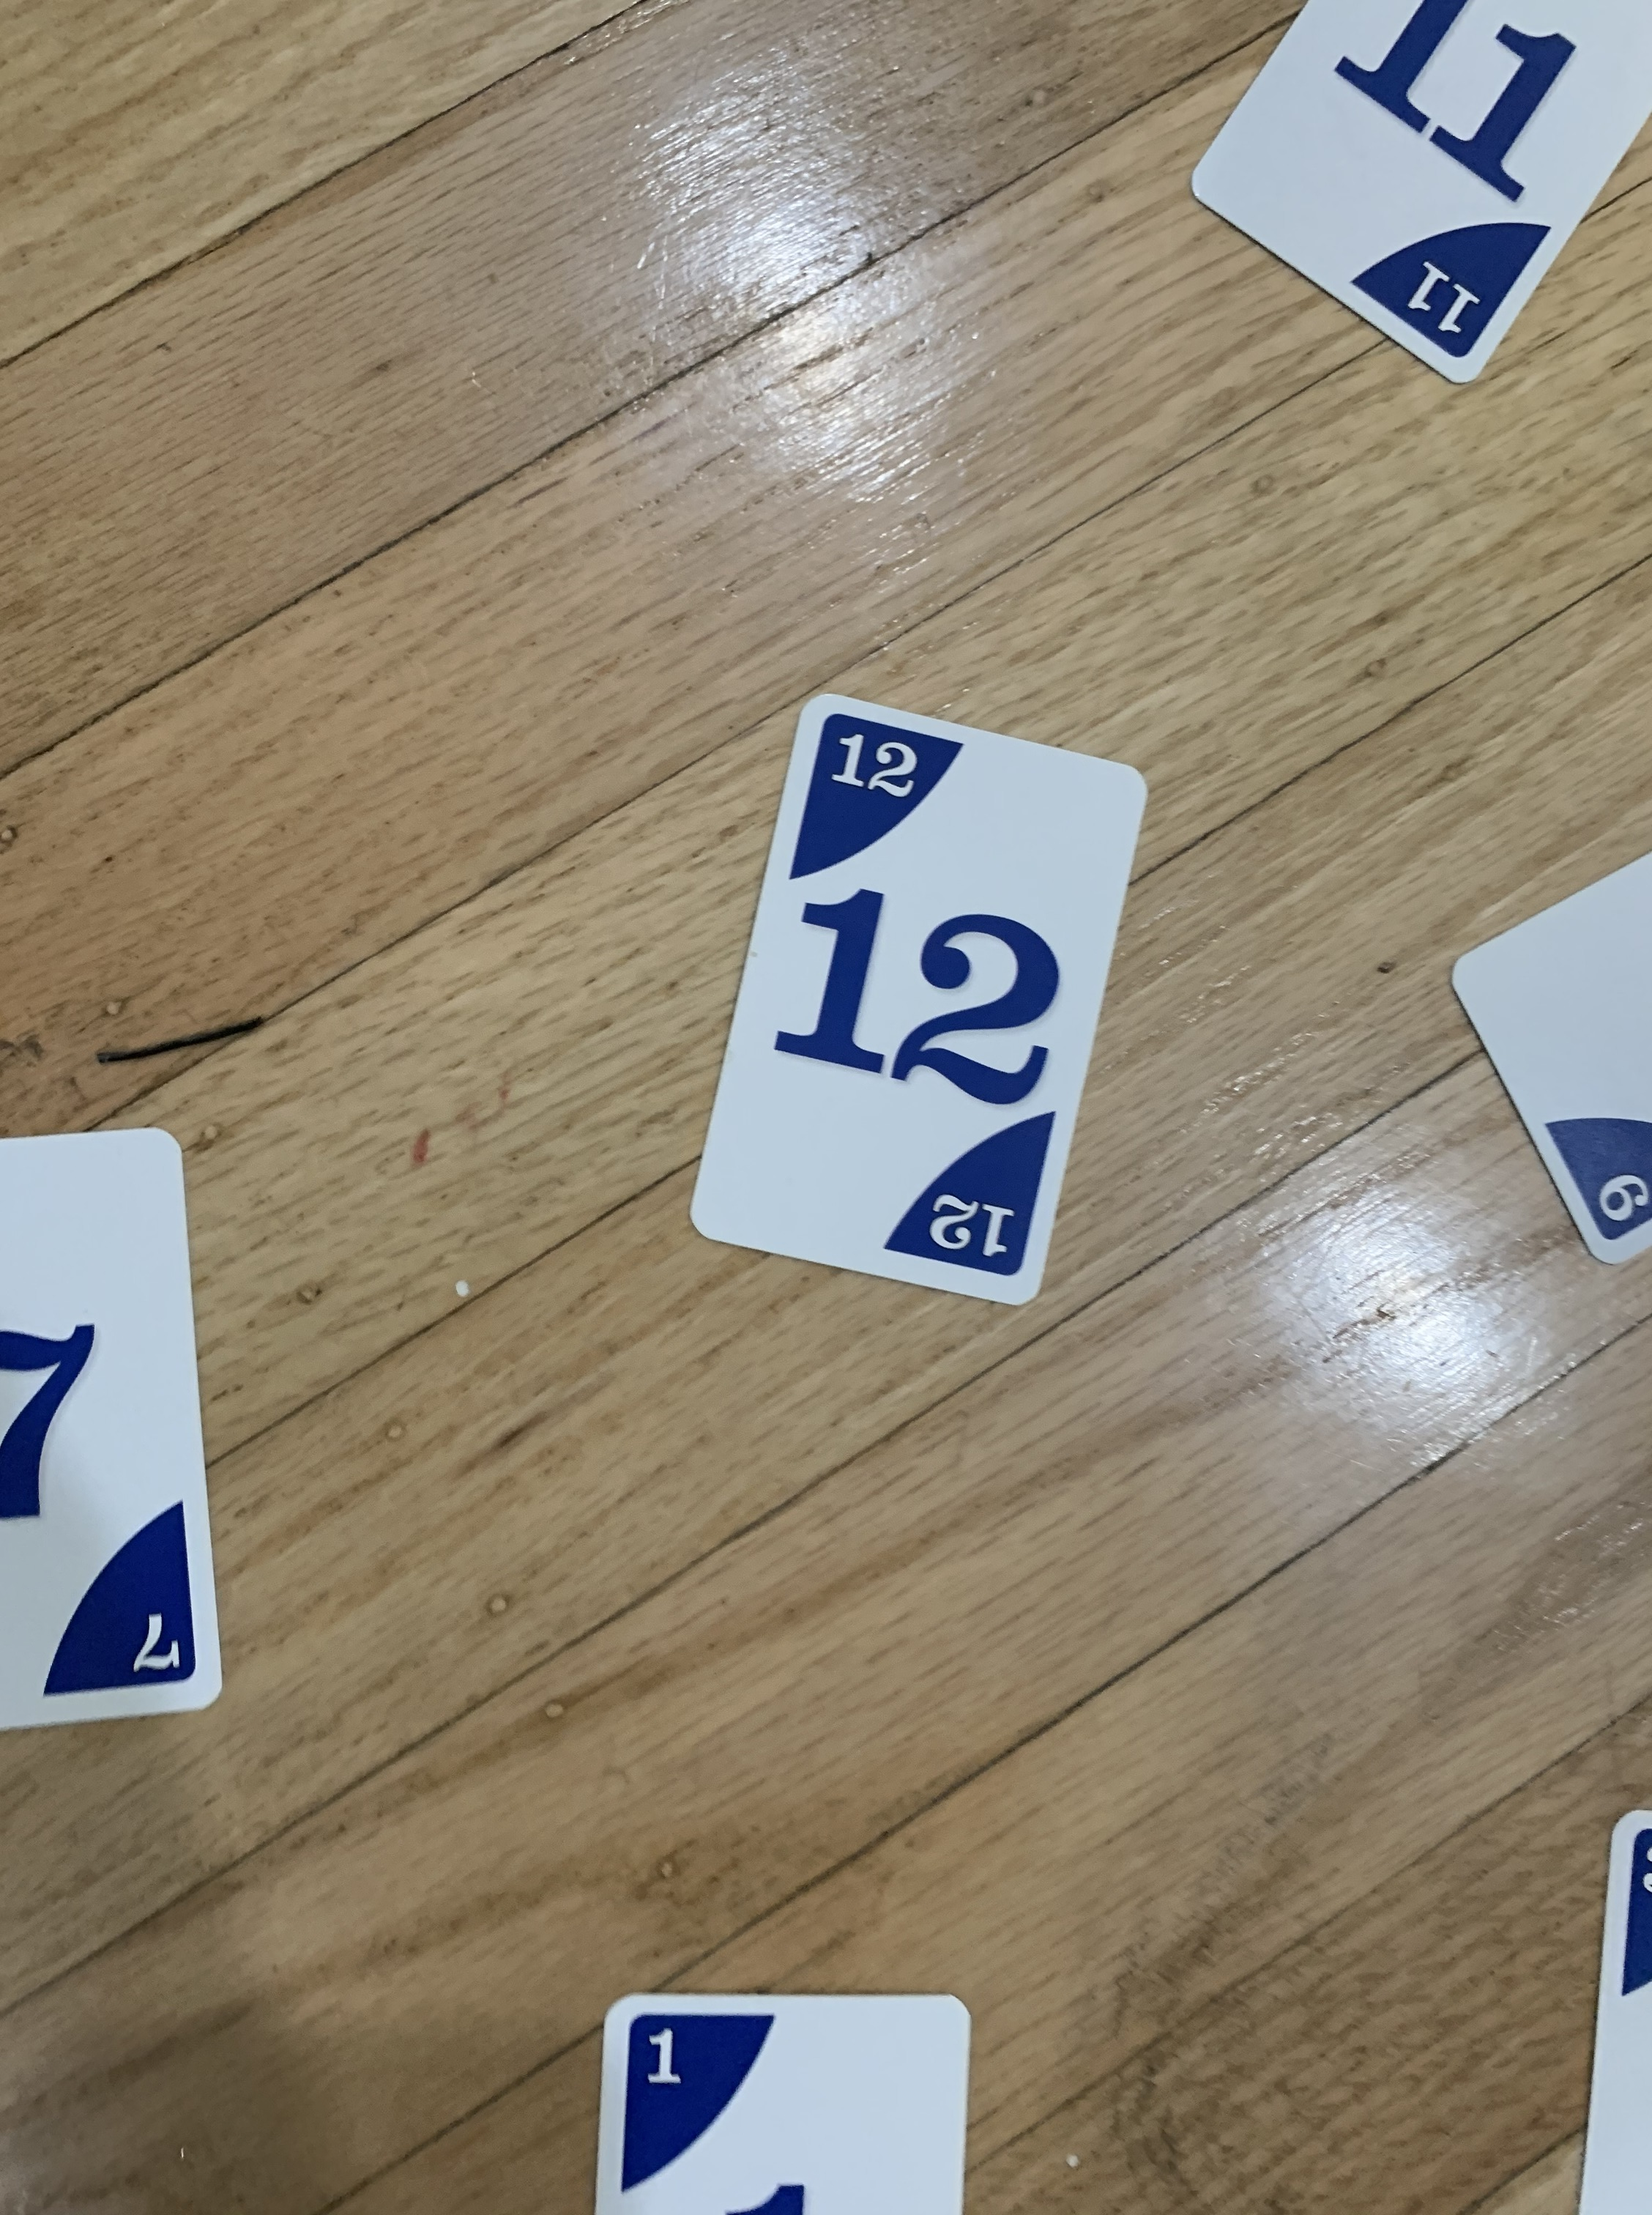twelve: (680, 686, 1152, 1309)
